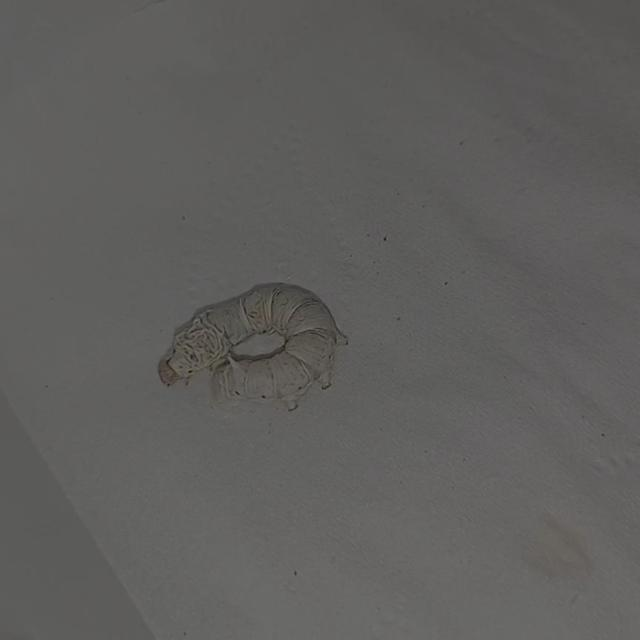Healthy: (122, 256, 393, 442)
